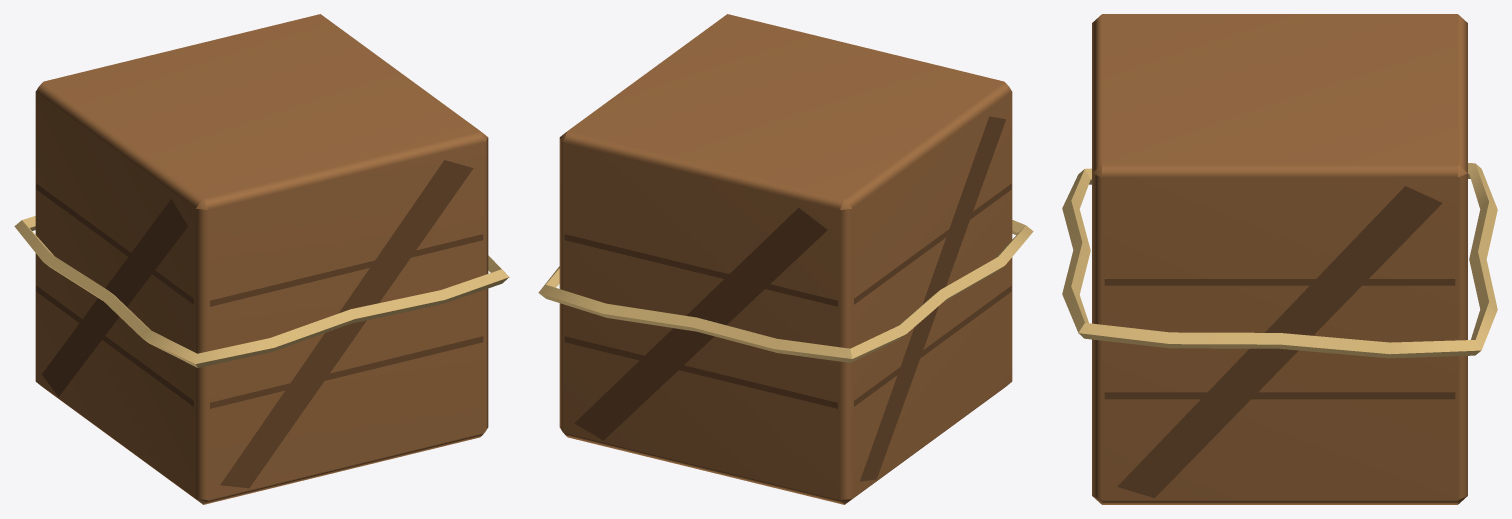
Rendered from Cajon.fbx.
3 renders of one model, left to right at view 1: azimuth 30°, elevation 25°; view 2: azimuth 150°, elevation 25°; view 3: azimuth 270°, elevation 25°, orthographic. The views are drawn at different scales.
Parts seen in each view (by area): view 1: Cajon; view 2: Cajon; view 3: Cajon.
Boxes of the visible parts, x1,y1,x2,y2 form: Cajon: (14,14,509,504); Cajon: (538,14,1033,504); Cajon: (1062,14,1497,504).
Size of the model in its own units: 3.48 by 3 by 3.48.
1 material, 1 textured.
